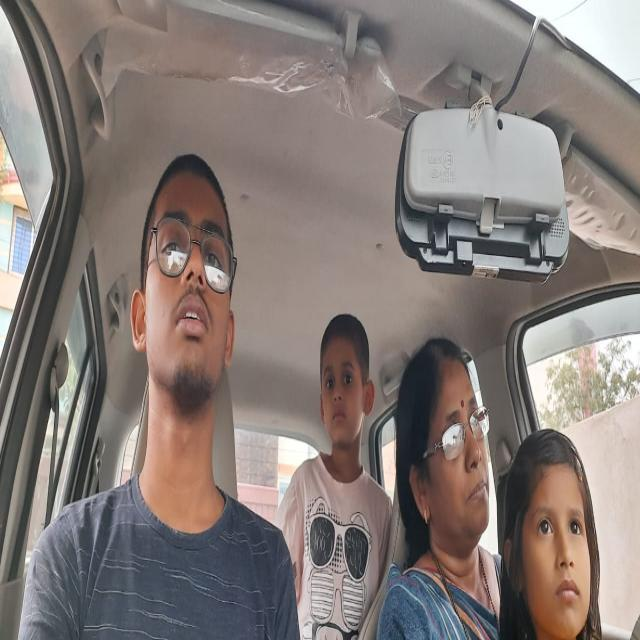child: (508, 425, 613, 637)
person: (131, 138, 243, 445), (395, 341, 491, 561), (321, 302, 373, 474)
